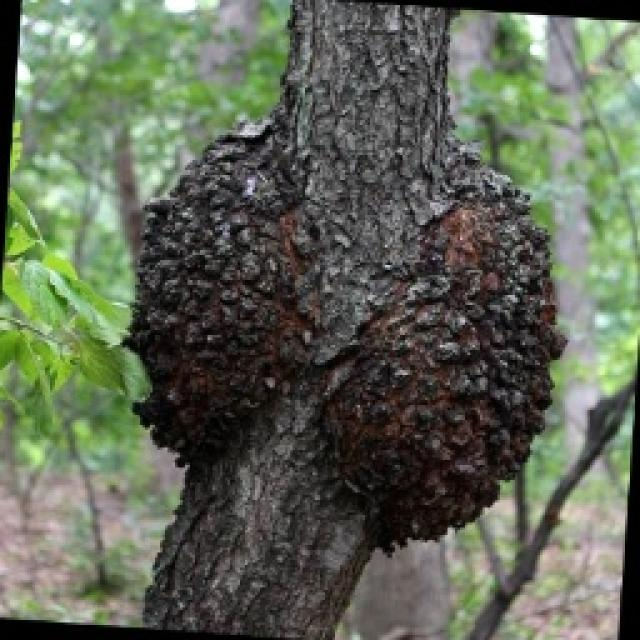Black_knot: (122, 0, 570, 558), (312, 175, 568, 553)
